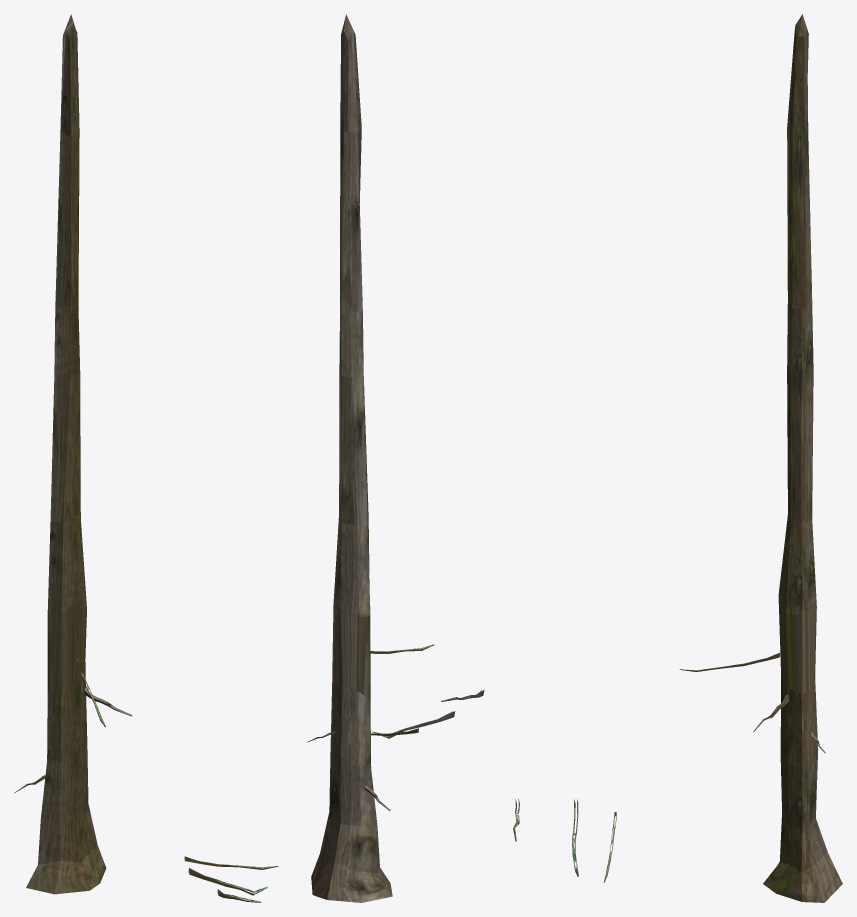
Rendered from douglas_pine.glb.
3 views of the same model, side by side, from view 1: azimuth 30°, elevation 25°; view 2: azimuth 150°, elevation 25°; view 3: azimuth 270°, elevation 25° (orthographic).
Visible parts, largest first — view 1: Cube; view 2: Cube; view 3: Cube.
Boxes of the visible parts, <box> form: Cube: <box>26,14,106,894</box>; Cube: <box>311,14,392,902</box>; Cube: <box>763,14,842,902</box>.
Bounding box in the file's own units: 0.8514 × 4.43 × 1.51.
Materials: 1 (1 with a texture image).
